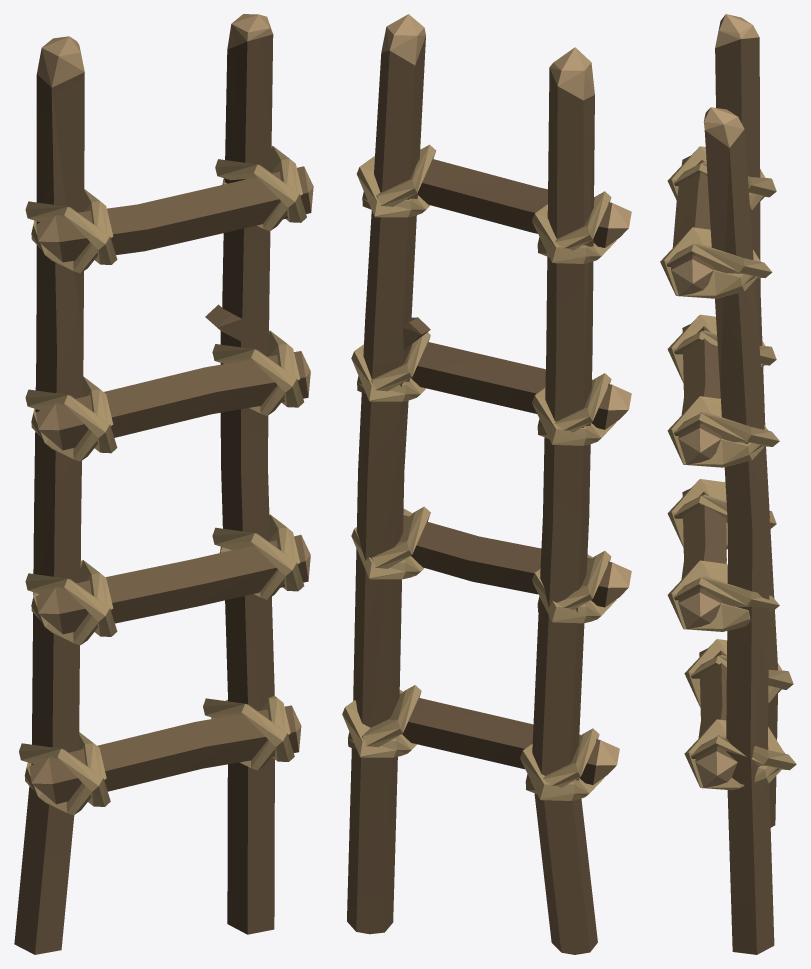
File: Escalera_Corta.glb
3 renders of one model, left to right at view 1: azimuth 30°, elevation 25°; view 2: azimuth 150°, elevation 25°; view 3: azimuth 270°, elevation 25°, orthographic. The views are drawn at different scales.
Visible parts, largest first — view 1: SM_Prop_Ladder_02; view 2: SM_Prop_Ladder_02; view 3: SM_Prop_Ladder_02.
Part boxes in pixels (x1,y1,x2,y2): SM_Prop_Ladder_02: [14, 14, 313, 954]; SM_Prop_Ladder_02: [342, 14, 631, 954]; SM_Prop_Ladder_02: [660, 14, 796, 954].
Size of the model in its own units: 0.8248 by 2.78 by 0.4041.
Materials: 1 (1 with a texture image).
